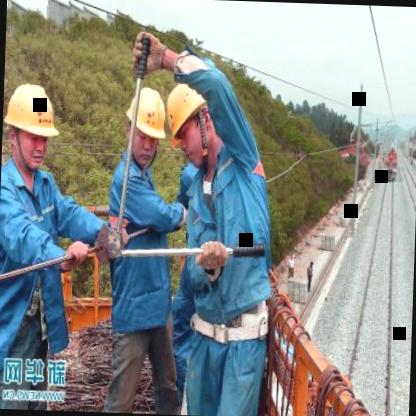helmet: (155, 72, 217, 167), (1, 77, 58, 178), (129, 78, 170, 172)
